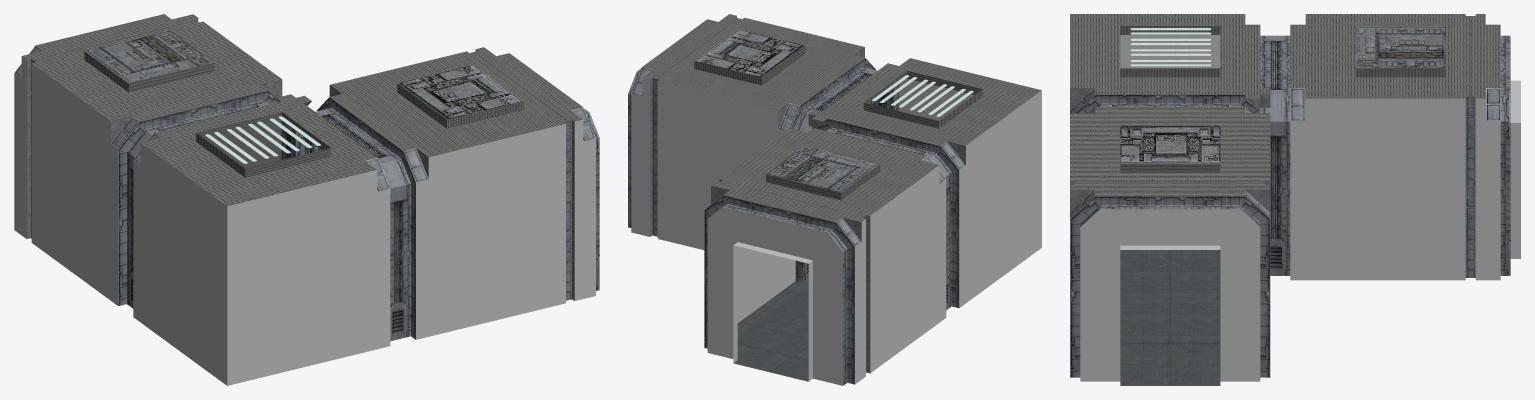
File: poi_all_impl_bunker_warren_s01_r10_hall10_mesh_r10.fbx
3 renders of one model, left to right at view 1: azimuth 30°, elevation 25°; view 2: azimuth 150°, elevation 25°; view 3: azimuth 270°, elevation 25°, orthographic. The views are drawn at different scales.
Parts seen in each view (by area): view 1: mesh_node; view 2: mesh_node; view 3: mesh_node.
Part boxes in pixels (<box>): mesh_node: <box>14,14,599,385</box>; mesh_node: <box>628,14,1041,385</box>; mesh_node: <box>1070,14,1520,385</box>.
Size of the model in its own units: 9 by 4.2 by 9.
